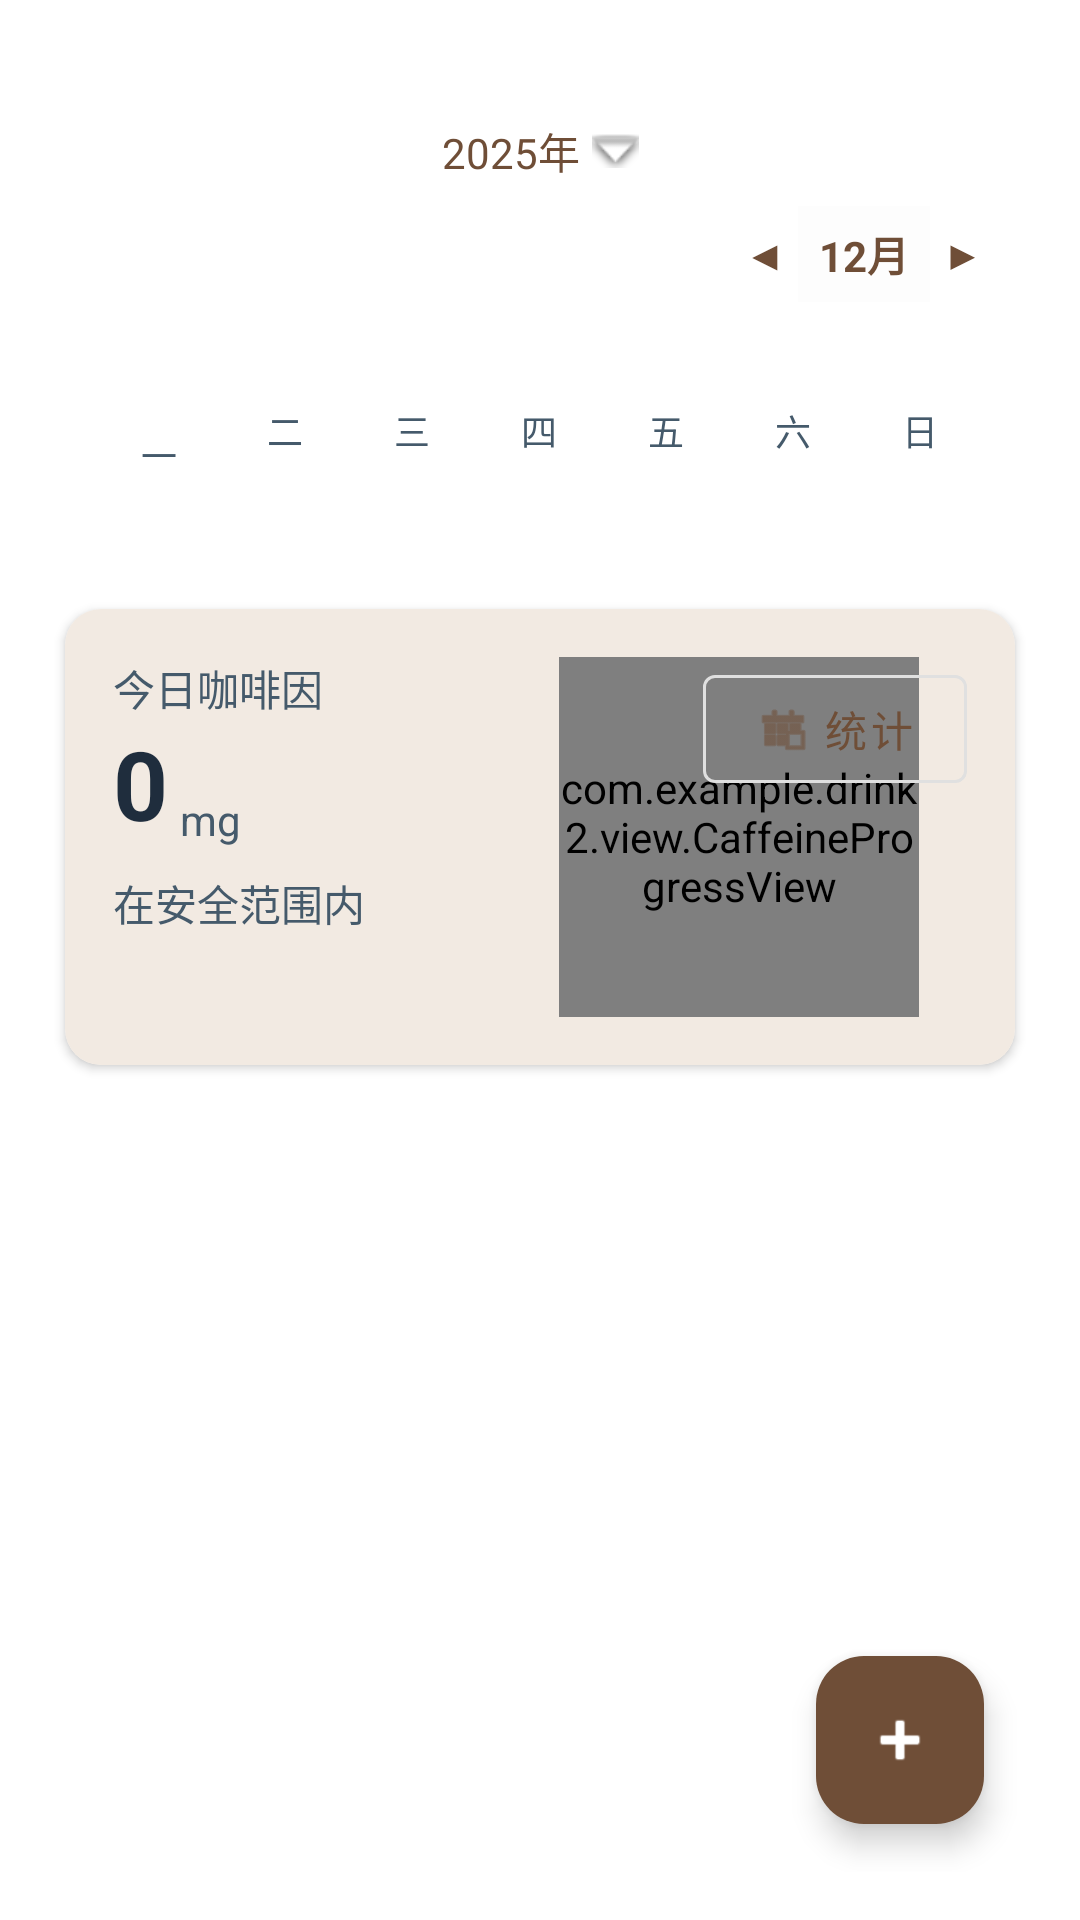

Icons on this 1080w x 1920h Android screen, each with its box as bbox(x1, y1, x2, y2):
添加饮品: bbox(816, 1656, 984, 1824)
